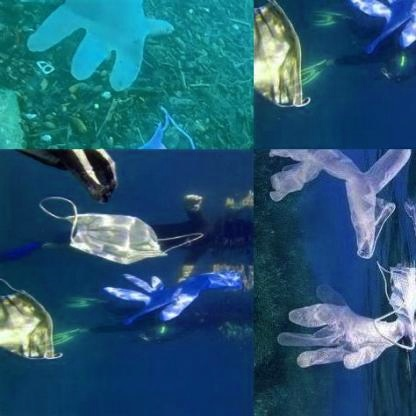Mask: (35, 196, 212, 265), (253, 0, 315, 119), (61, 103, 204, 148), (0, 278, 67, 366), (375, 258, 415, 343)
glove: (270, 149, 412, 265), (24, 2, 176, 90), (273, 283, 394, 372), (107, 271, 246, 328), (351, 0, 415, 59)
